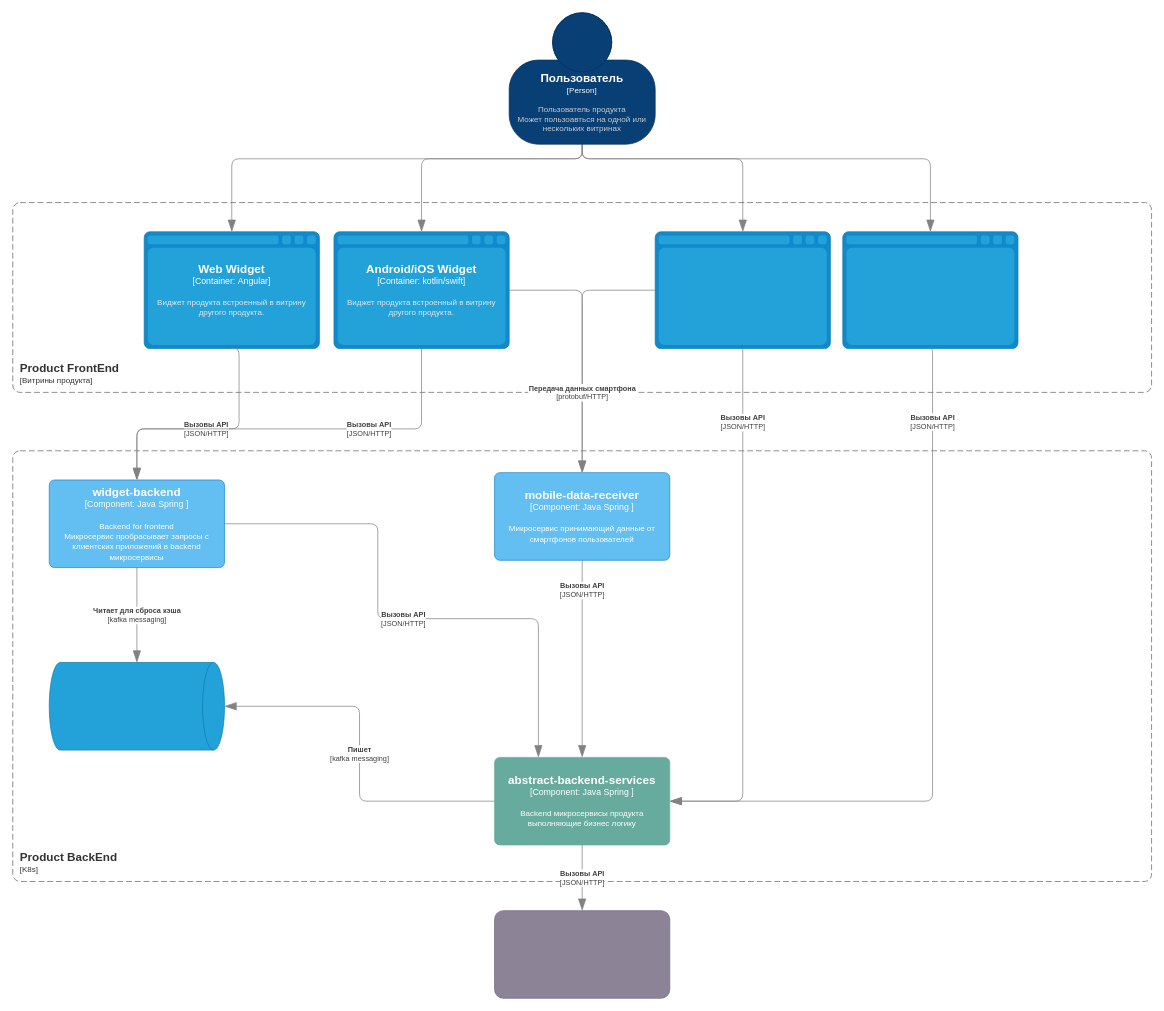
Some shapes in this 1164 by 1011 pixel diagram are drawn without their labels. Here are the shapes that lost their labels. From the top down, the centre of each, then its label:
pixel 742 290: Android/iOS APP [Container: kotlin/swift] Мобильное Android/iOS приложение
pixel 930 290: WebApp [Container: Angular] Веб приложение
pixel 136 706: message queue [Container: Apache Kafka] События изменения объектов в системе
pixel 582 954: Экосистемные модули [Software System] Внешние системы
